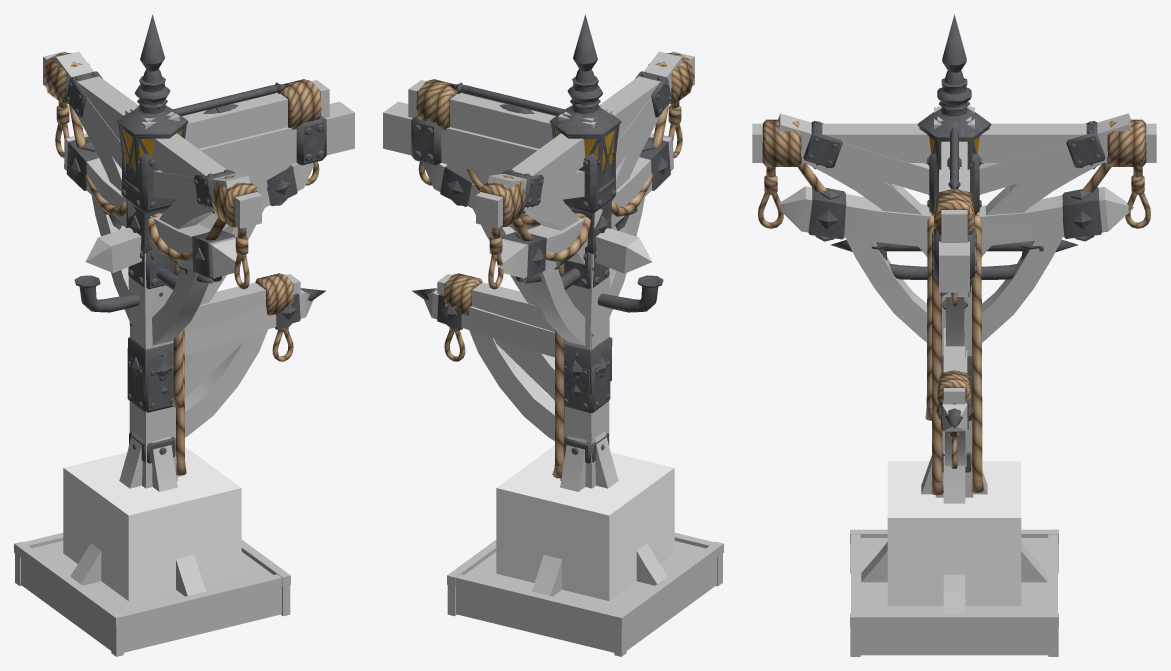
Rendered from lanterns.fbx.
3 views of the same model, side by side, from view 1: azimuth 30°, elevation 25°; view 2: azimuth 150°, elevation 25°; view 3: azimuth 270°, elevation 25° (orthographic). The views are drawn at different scales.
Visible parts, largest first — view 1: InvisBox, base.003, Cube.001, post.008, post, Cube.006, post.002, supports, rope.006, top post, Cube.002, post.009 (+14 smaller); view 2: InvisBox, base.003, Cube.001, post.008, Cube.006, post, rope.006, supports, post.002, Cube.003, top post, Cube.002 (+13 smaller); view 3: InvisBox, base.003, Cube.001, post.008, rope.006, top post, post, supports, rope.005, Cube.002, lamp3.008, pole.002 (+11 smaller).
Part boxes in pixels (x1,y1,x2,y2): InvisBox: [63, 447, 241, 600]; base.003: [14, 532, 290, 656]; Cube.001: [64, 133, 239, 462]; post.008: [43, 51, 261, 264]; post: [87, 80, 329, 596]; Cube.006: [184, 289, 313, 437]; post.002: [198, 101, 354, 230]; supports: [66, 71, 235, 412]; rope.006: [43, 52, 258, 407]; top post: [55, 51, 249, 203]; Cube.002: [66, 136, 234, 394]; post.009: [184, 274, 299, 397]; InvisBox: [496, 445, 674, 600]; base.003: [447, 532, 723, 656]; Cube.001: [497, 133, 673, 445]; post.008: [476, 51, 694, 264]; Cube.006: [424, 289, 554, 440]; post: [408, 80, 656, 595]; rope.006: [479, 52, 694, 478]; supports: [502, 71, 671, 413]; post.002: [383, 101, 539, 231]; Cube.003: [423, 162, 652, 332]; top post: [488, 51, 682, 203]; Cube.002: [502, 137, 670, 394]; InvisBox: [887, 461, 1021, 605]; base.003: [850, 529, 1058, 656]; Cube.001: [780, 186, 1133, 463]; post.008: [752, 123, 1156, 256]; rope.006: [762, 119, 1146, 492]; top post: [778, 113, 1130, 194]; post: [861, 106, 1047, 612]; supports: [803, 121, 1105, 420]; rope.005: [930, 189, 976, 495]; Cube.002: [808, 187, 1102, 401]; lamp3.008: [917, 101, 991, 178]; pole.002: [937, 14, 971, 116].
Size of what is drawn, in the model's own units: 238 by 404 by 197.
